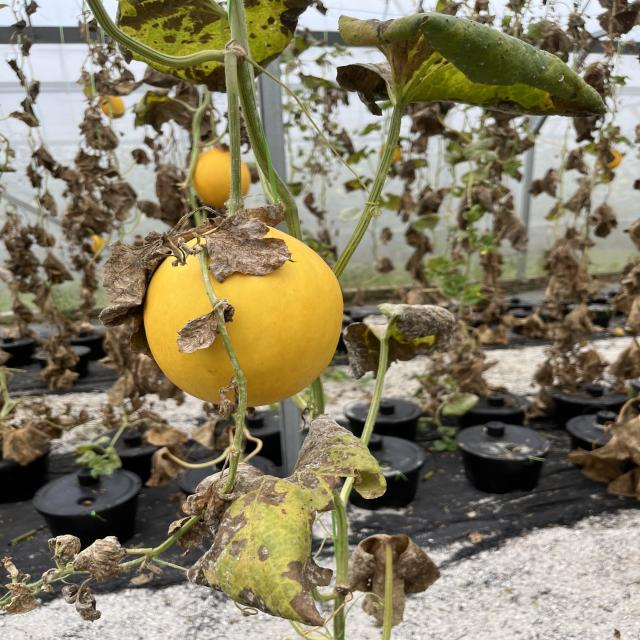bacterial wilt: (172, 419, 396, 630), (318, 12, 622, 118), (95, 228, 170, 332), (208, 214, 293, 279), (183, 297, 240, 348), (72, 532, 129, 576), (56, 583, 103, 624)
